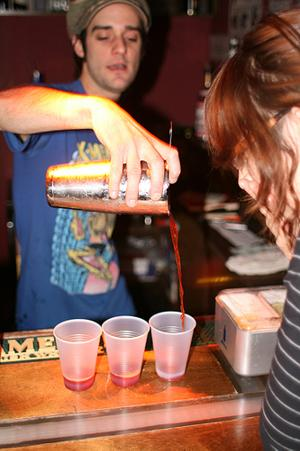person: (2, 3, 181, 332)
